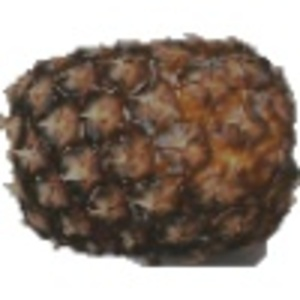abacaxi: (3, 28, 292, 253)
